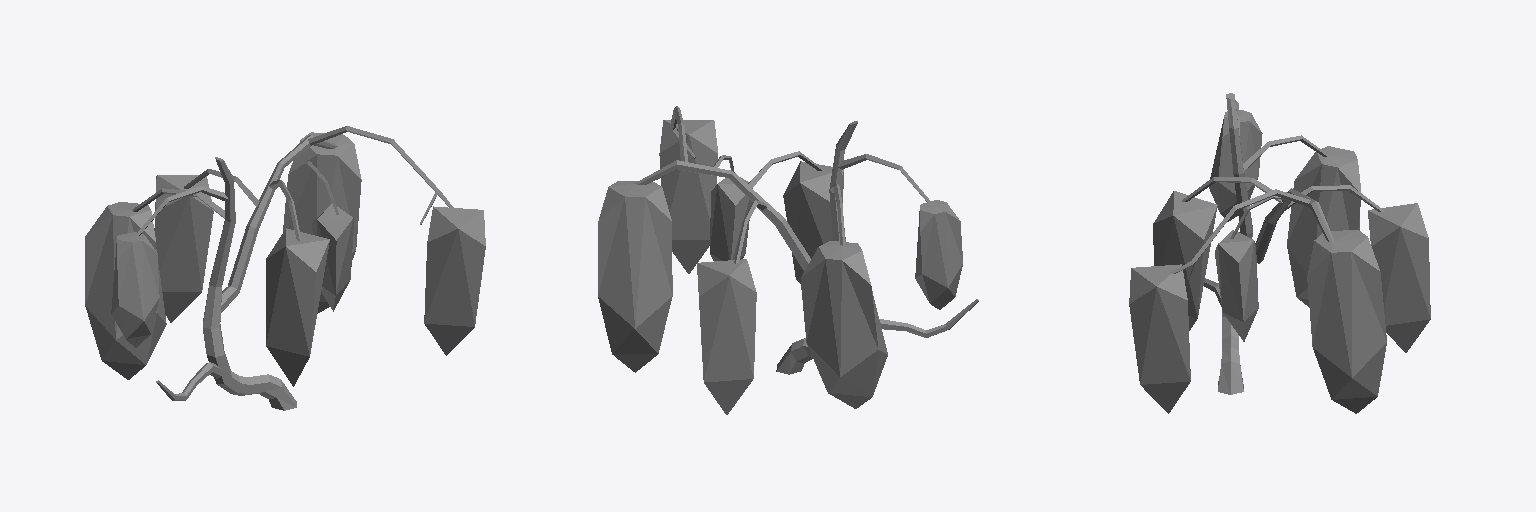
File: tree_07.obj
The picture shows the model from 3 angles: view 1: azimuth 30°, elevation 25°; view 2: azimuth 150°, elevation 25°; view 3: azimuth 270°, elevation 25°; orthographic projection.
Bounding box in the file's own units: 6.95 × 5.24 × 5.46.